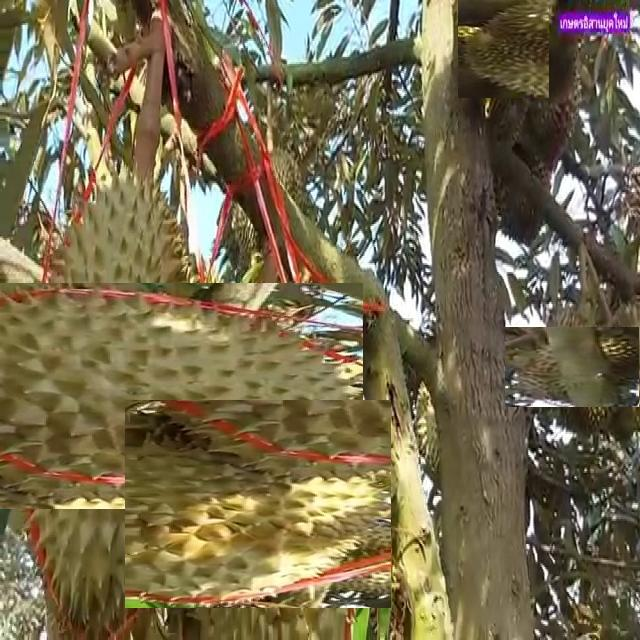durian: (0, 222, 302, 570), (140, 386, 376, 623), (522, 310, 635, 424), (454, 0, 552, 95)
